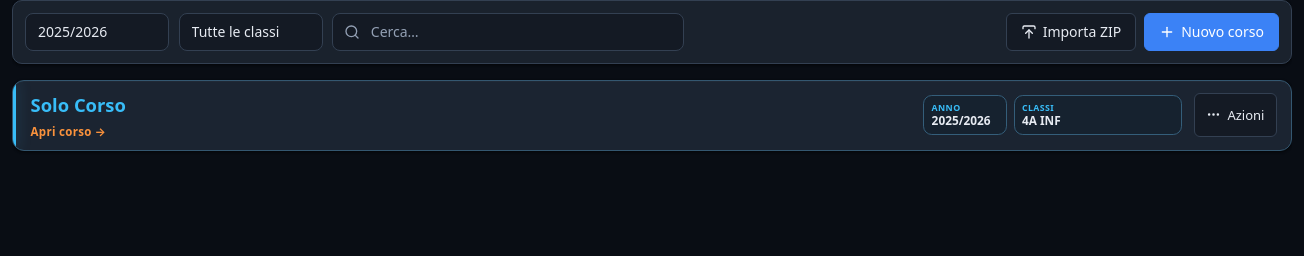
Test: DidatticaView — filters › shows a composed empty state with a working "Azzera filtri" reset
expect the heading "Solo Corso" is shown: met, box [31, 92, 126, 117]
Type "zzz-no-match" into the search field named "Cerca corso" at (508, 32), box [332, 13, 684, 51]
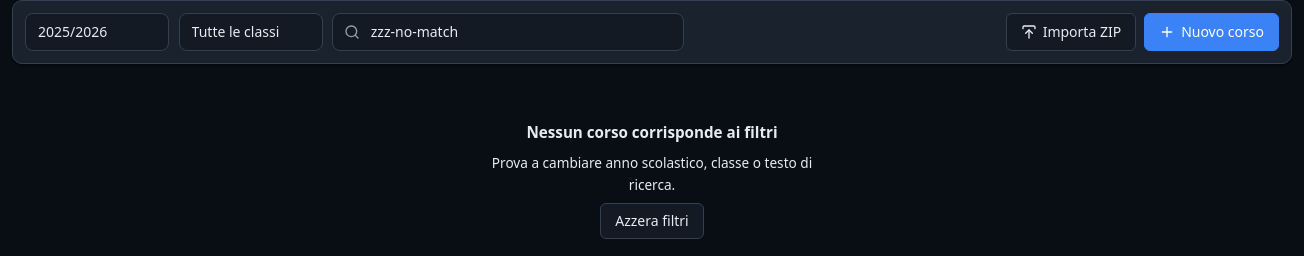
expect the text "Nessun corso corrisponde ai filtri" is shown: met, box [526, 120, 778, 144]
Click the button "Azzera filtri" at (652, 221), box [600, 203, 704, 239]
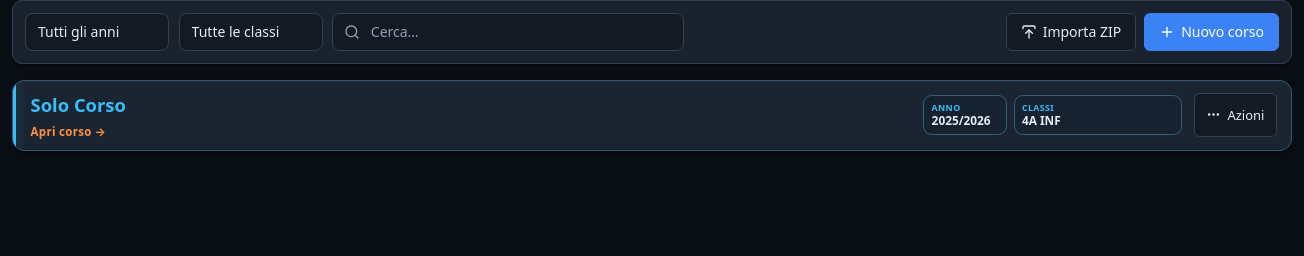
expect the heading "Solo Corso" is shown: met, box [31, 92, 126, 117]
